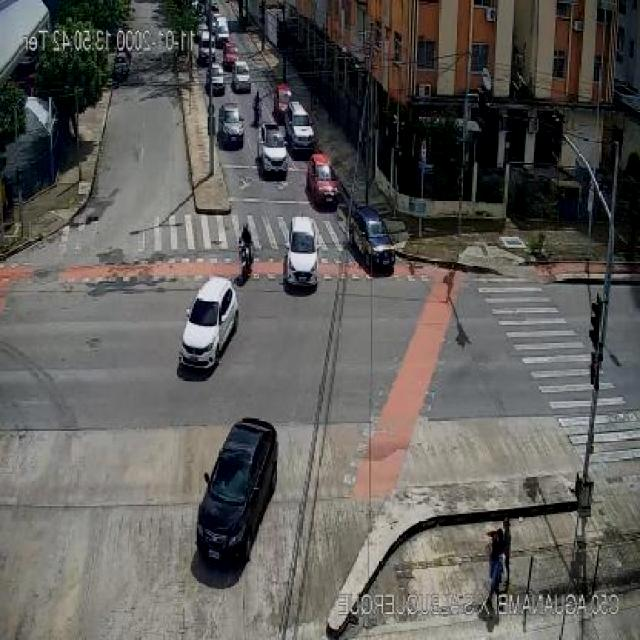Car: (194, 418, 282, 564), (177, 276, 239, 373), (349, 203, 401, 270), (282, 216, 322, 290), (256, 124, 290, 180), (306, 153, 340, 207), (286, 102, 313, 148), (218, 104, 245, 148), (231, 60, 252, 92), (207, 59, 224, 93)
Cycle: (236, 244, 257, 280)
Van: (214, 20, 230, 49)
